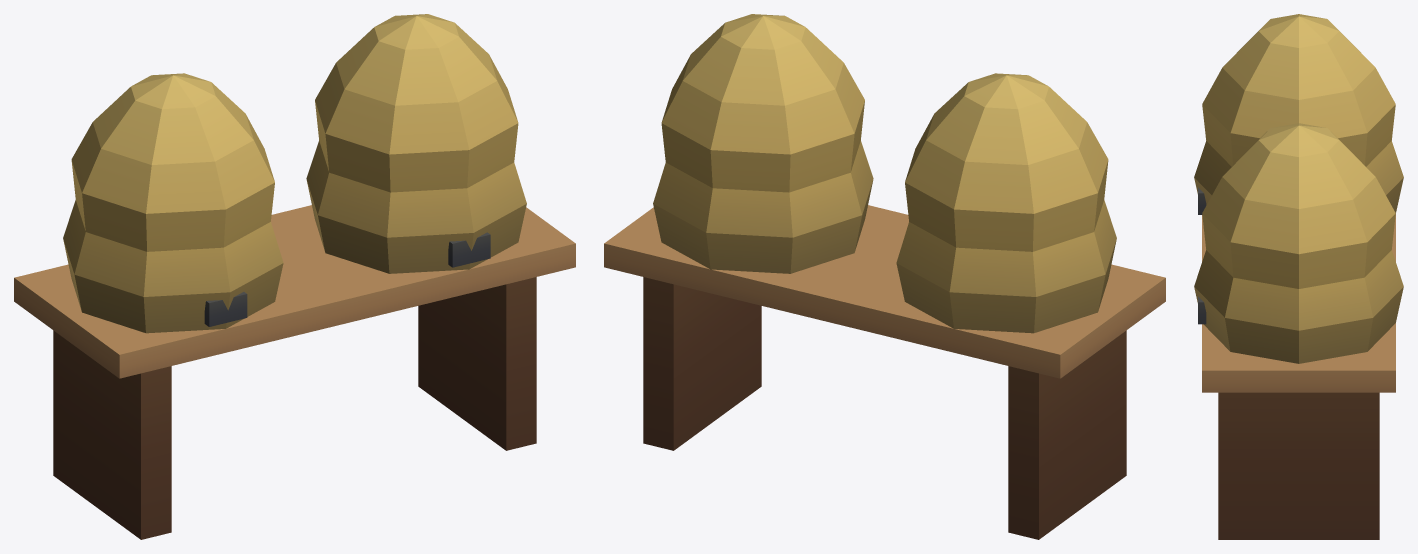
Rendered from beehives.glb.
3 renders of one model, left to right at view 1: azimuth 30°, elevation 25°; view 2: azimuth 150°, elevation 25°; view 3: azimuth 270°, elevation 25°, orthographic. The views are drawn at different scales.
Parts seen in each view (by area): view 1: beehives; view 2: beehives; view 3: beehives.
Boxes of the visible parts, box(x1,y1,x2,y2) form: beehives: box(14, 14, 575, 539); beehives: box(604, 14, 1165, 539); beehives: box(1194, 14, 1403, 539).
Bounding box in the file's own units: 6 × 5.2 × 2.6.
1 material, 1 textured.
